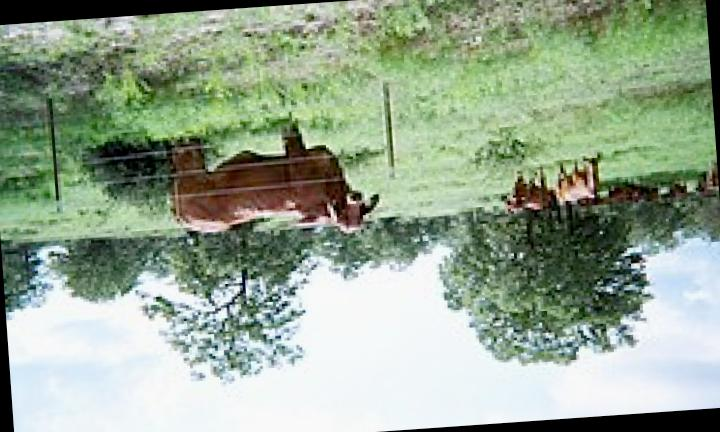Brahman: (175, 125, 380, 233), (559, 157, 601, 204), (510, 169, 551, 211)
